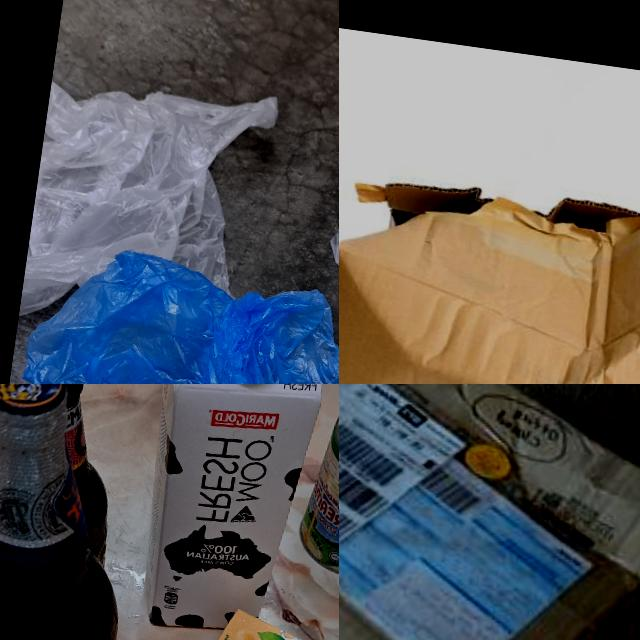caixinha: (127, 384, 337, 640)
garrafa de vidro: (0, 384, 159, 640), (0, 384, 139, 575)
lata: (297, 384, 339, 588)
papelão: (339, 384, 640, 640), (339, 160, 640, 384)
sacola plástica: (18, 68, 280, 354), (0, 233, 339, 384)
